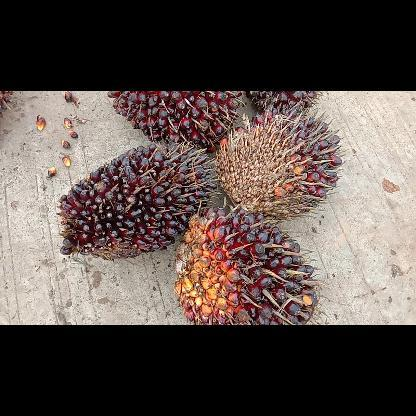TBS mentah: (56, 141, 220, 259), (174, 204, 326, 324), (214, 109, 344, 221), (107, 91, 244, 151), (245, 91, 323, 117)
